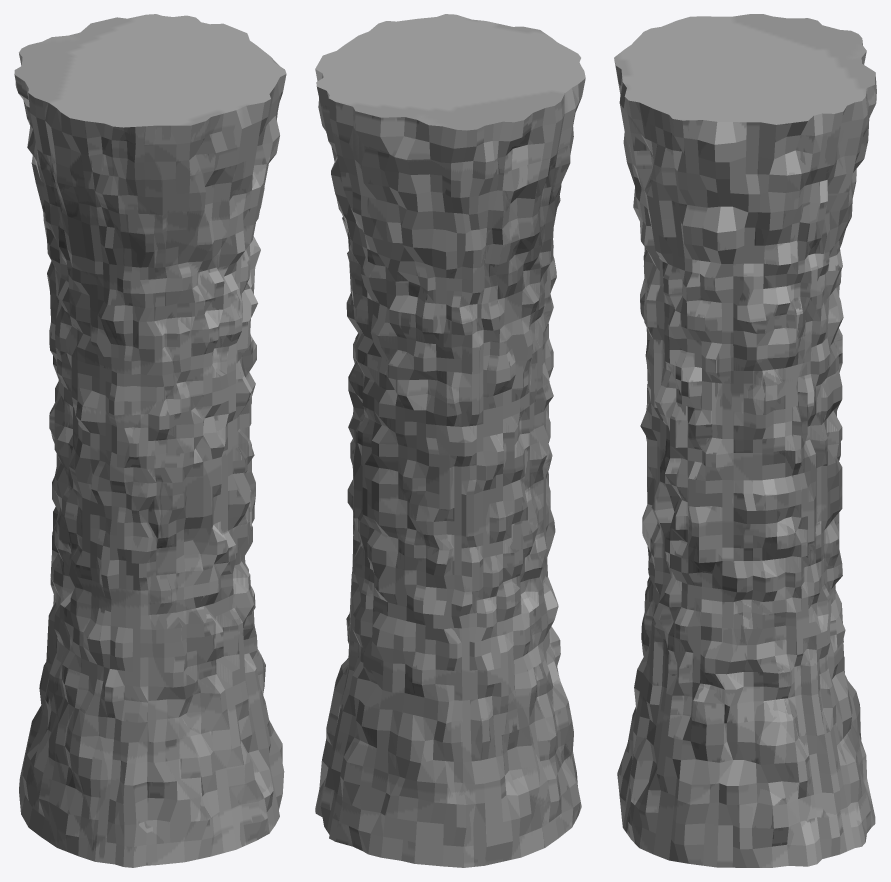
The model's file is stonePillar.fbx.
3 renders of one model, left to right at view 1: azimuth 30°, elevation 25°; view 2: azimuth 150°, elevation 25°; view 3: azimuth 270°, elevation 25°, orthographic.
Visible parts, largest first — view 1: Cube; view 2: Cube; view 3: Cube.
Part boxes in pixels (x1,y1,x2,y2): Cube: (14,14,286,867); Cube: (315,14,585,867); Cube: (614,14,876,867).
Size of the model in its own units: 452 by 1379 by 441.
